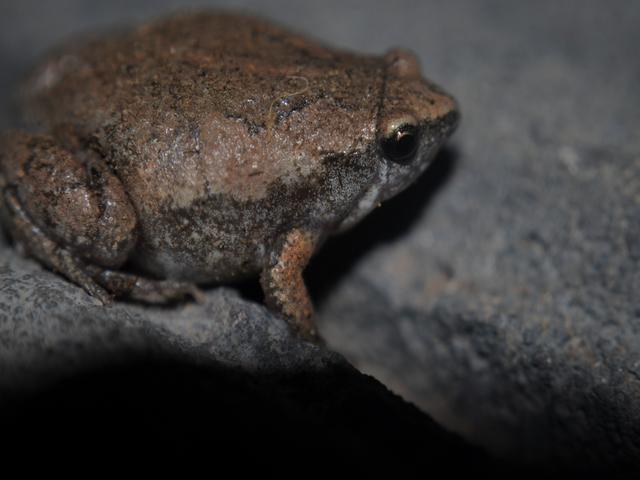frog: (24, 10, 473, 368)
